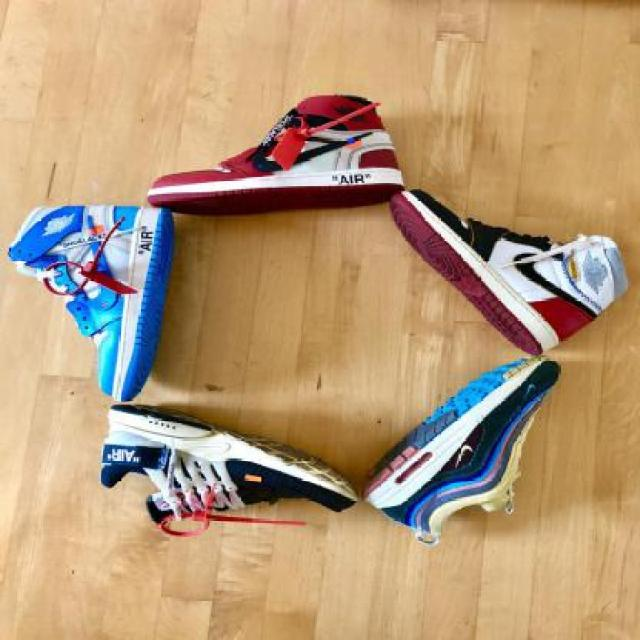shoe: (360, 356, 568, 546), (394, 192, 634, 354), (84, 403, 358, 540), (12, 202, 172, 402), (149, 94, 403, 203)
